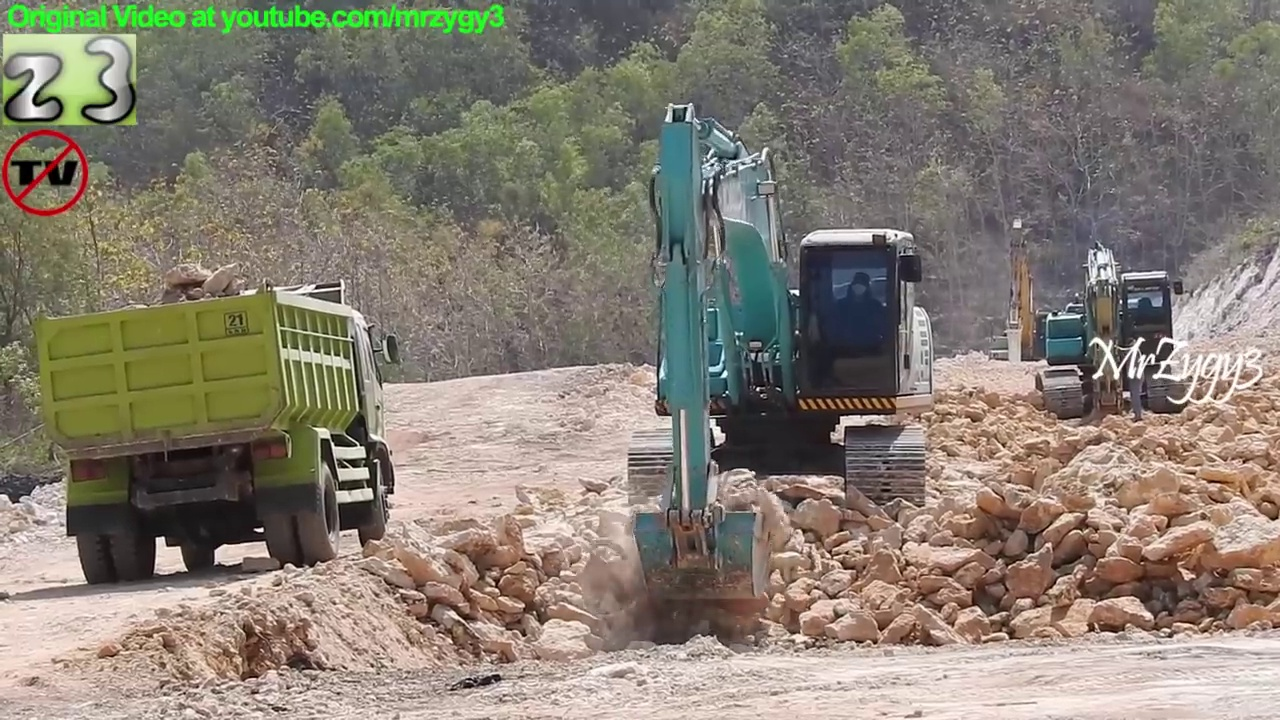excavator: (619, 93, 943, 610), (978, 212, 1068, 378)
excavator breaker: (1026, 231, 1192, 433)
truck: (31, 275, 406, 589)
worker: (1110, 328, 1157, 427)
